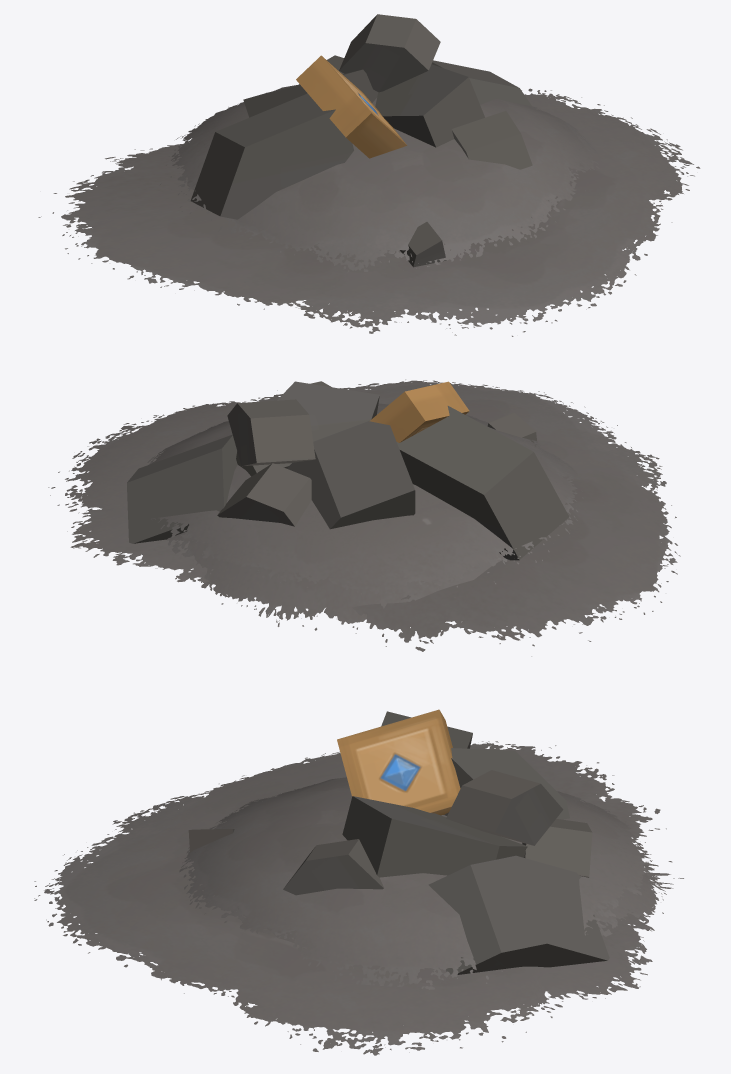
Rendered from SM_Rubble_Mound_02.fbx.
3 views of the same model, one above another, from view 1: azimuth 30°, elevation 25°; view 2: azimuth 150°, elevation 25°; view 3: azimuth 270°, elevation 25° (orthographic). The views are drawn at different scales.
Visible parts, largest first — view 1: SM_Rubble_Mound_02; view 2: SM_Rubble_Mound_02; view 3: SM_Rubble_Mound_02.
Boxes of the visible parts, <box> form: SM_Rubble_Mound_02: <box>38,14,700,336</box>; SM_Rubble_Mound_02: <box>48,379,680,656</box>; SM_Rubble_Mound_02: <box>34,709,683,1055</box>.
Size of the model in its own units: 294 by 76.54 by 265.
